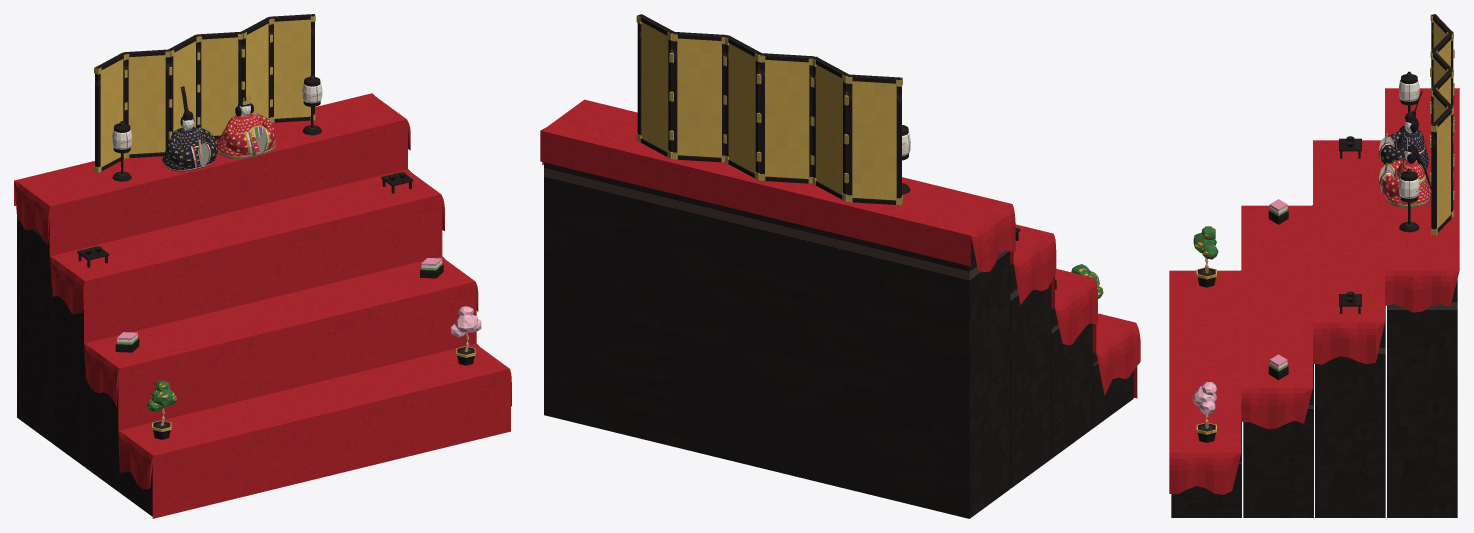
Rendered from hinadan_own.glb.
3 renders of one model, left to right at view 1: azimuth 30°, elevation 25°; view 2: azimuth 150°, elevation 25°; view 3: azimuth 270°, elevation 25°, orthographic. The views are drawn at different scales.
Parts seen in each view (by area): view 1: box; view 2: box; view 3: box.
Part boxes in pixels (x1,y1,x2,y2): box: [14, 14, 511, 518]; box: [540, 14, 1140, 518]; box: [1169, 14, 1459, 517].
Bounding box in the file's own units: 1.53 × 1.37 × 1.01.
Materials: 15 (15 with a texture image).
